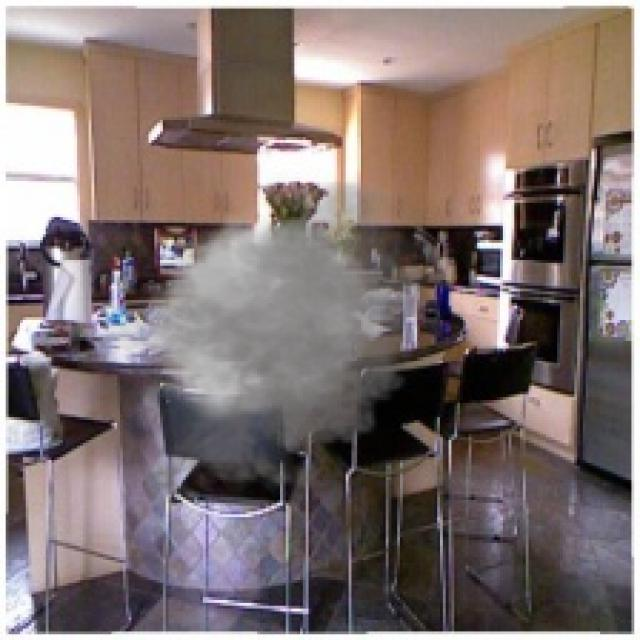Smoke: (77, 166, 454, 512)
